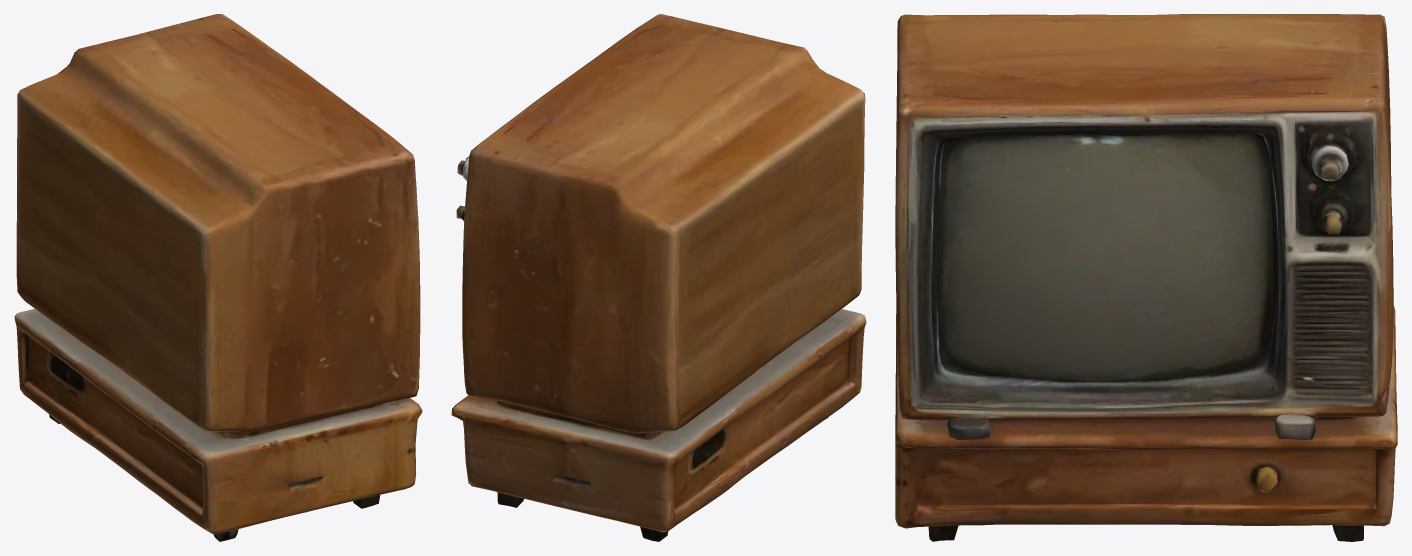
3 views of the same model, side by side, from view 1: azimuth 30°, elevation 25°; view 2: azimuth 150°, elevation 25°; view 3: azimuth 270°, elevation 25° (orthographic). The views are drawn at different scales.
Parts seen in each view (by area): view 1: tripo_node_ccbc45f4-d583-4687-8fe5-c3d8aa923cb7; view 2: tripo_node_ccbc45f4-d583-4687-8fe5-c3d8aa923cb7; view 3: tripo_node_ccbc45f4-d583-4687-8fe5-c3d8aa923cb7.
Part boxes in pixels (x1,y1,x2,y2): tripo_node_ccbc45f4-d583-4687-8fe5-c3d8aa923cb7: [14, 14, 422, 541]; tripo_node_ccbc45f4-d583-4687-8fe5-c3d8aa923cb7: [451, 14, 866, 541]; tripo_node_ccbc45f4-d583-4687-8fe5-c3d8aa923cb7: [895, 14, 1397, 541].
Bounding box in the file's own units: 0.6983 × 0.9985 × 0.9998.
Materials: 1 (1 with a texture image).
